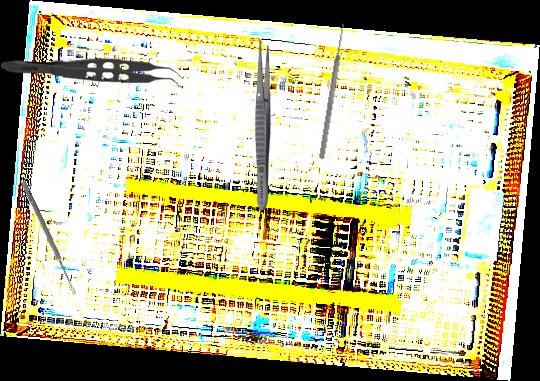Dressing Forceps: (254, 40, 271, 210)
Pusher: (317, 22, 348, 160)
Surgical Spoon: (20, 180, 78, 296)
Tissue Forceps: (0, 56, 184, 91)
